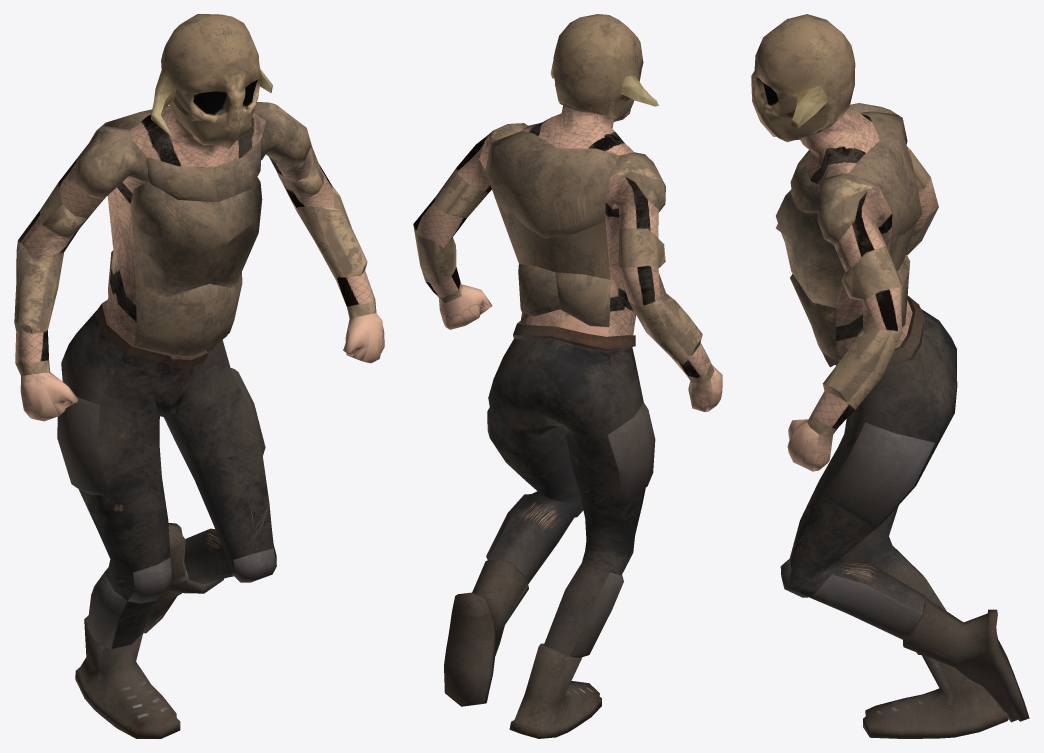
The model's file is Anim_correr_npc1.0033.obj.
3 views of the same model, side by side, from view 1: azimuth 30°, elevation 25°; view 2: azimuth 150°, elevation 25°; view 3: azimuth 270°, elevation 25° (orthographic). The views are drawn at different scales.
Visible parts, largest first — view 1: Anim_correr_npc1; view 2: Anim_correr_npc1; view 3: Anim_correr_npc1.
Boxes of the visible parts, <box> form: Anim_correr_npc1: <box>14,14,384,738</box>; Anim_correr_npc1: <box>413,14,722,738</box>; Anim_correr_npc1: <box>751,14,1029,738</box>.
Size of the model in its own units: 4.28 by 8.91 by 3.13.
